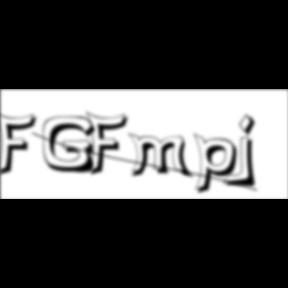F: (86, 110, 134, 178), (1, 110, 44, 178)
G: (44, 116, 102, 176)
j: (236, 113, 264, 191)
m: (128, 132, 196, 181)
p: (194, 132, 244, 198)
